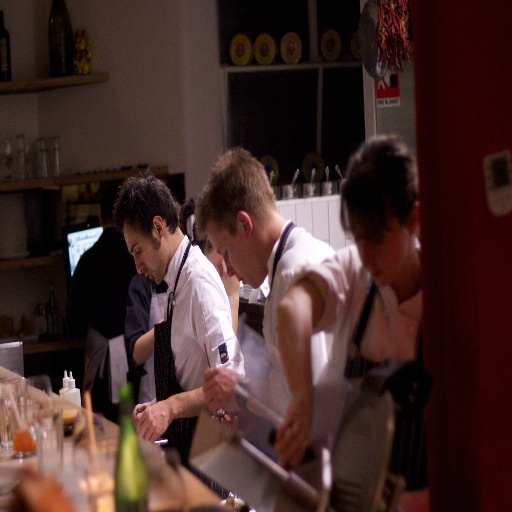hand: (125, 387, 209, 450), (272, 399, 315, 471), (202, 367, 246, 417), (132, 398, 155, 430)
